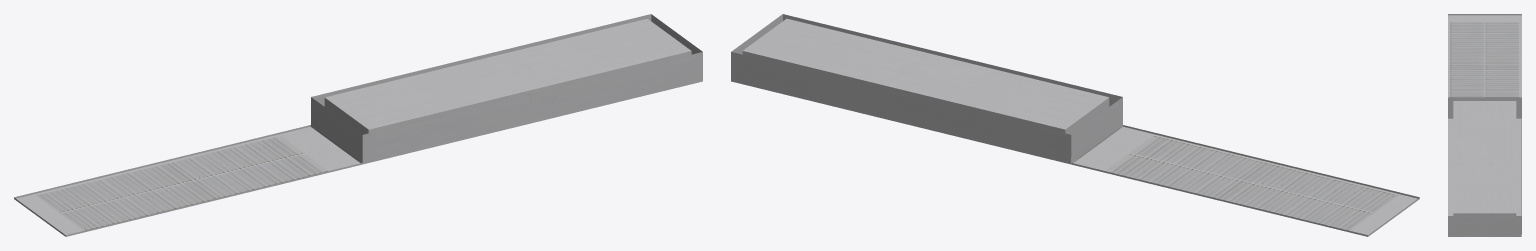
Rendered from LGSeocho25OfficeLight.fbx.
3 views of the same model, side by side, from view 1: azimuth 30°, elevation 25°; view 2: azimuth 150°, elevation 25°; view 3: azimuth 270°, elevation 25° (orthographic). The views are drawn at different scales.
Visible parts, largest first — view 1: LGSeocho25Vent; view 2: LGSeocho25Vent; view 3: LGSeocho25Vent.
Part boxes in pixels (x1=…): LGSeocho25Vent: x1=14, y1=14, x2=702, y2=236; LGSeocho25Vent: x1=731, y1=14, x2=1419, y2=236; LGSeocho25Vent: x1=1448, y1=14, x2=1521, y2=236.
Size of the model in its own units: 225 by 10 by 31.66.
